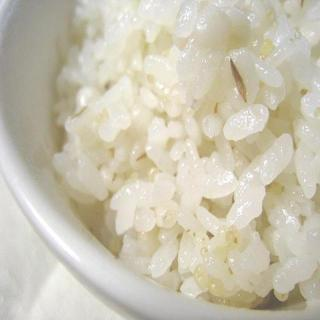Nasi: (50, 1, 320, 309)
